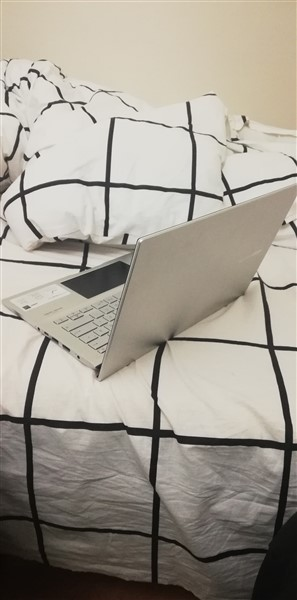laptop: (5, 174, 297, 383)
